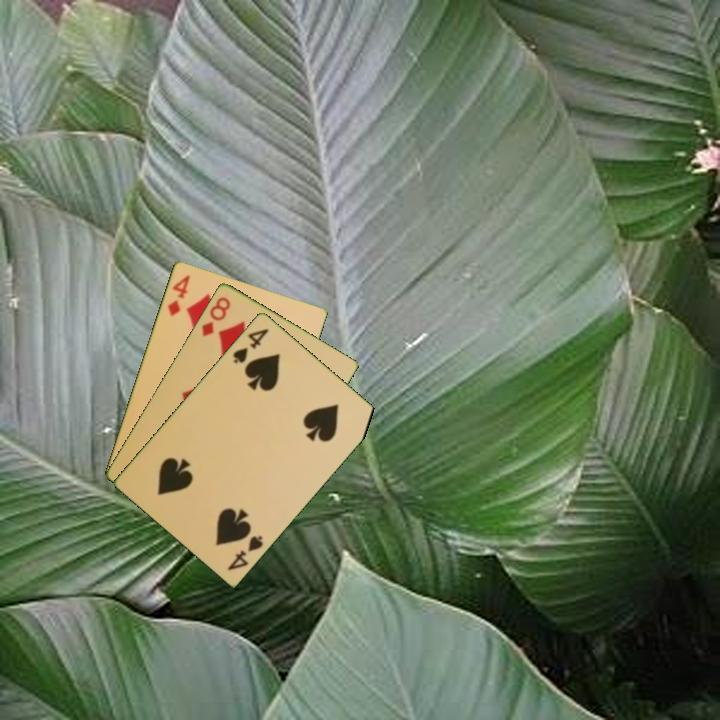4d: (164, 271, 193, 319)
4s: (229, 324, 271, 366), (224, 531, 266, 573)
8d: (198, 293, 233, 339)
